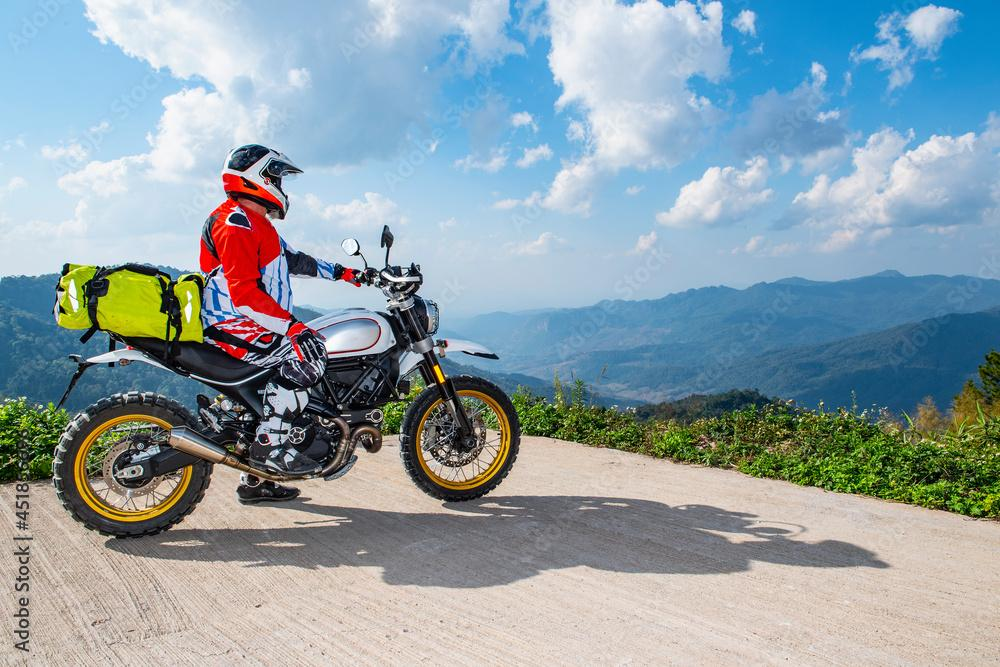helmet: (221, 142, 305, 221)
